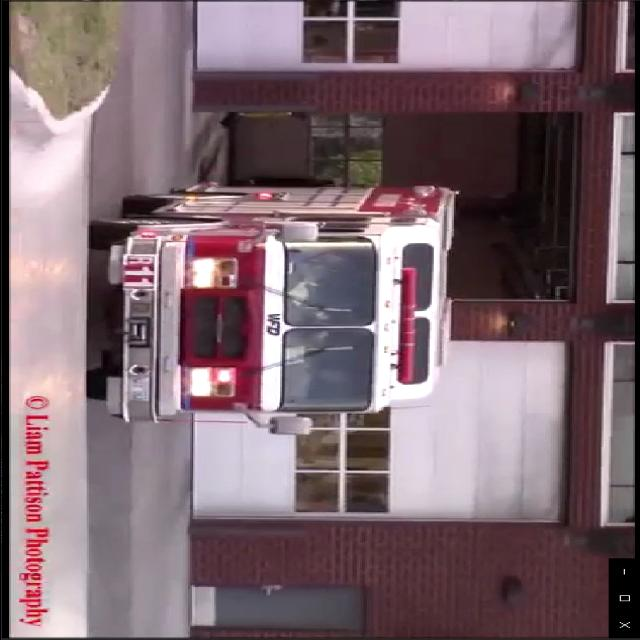emergency: (65, 182, 461, 446)
